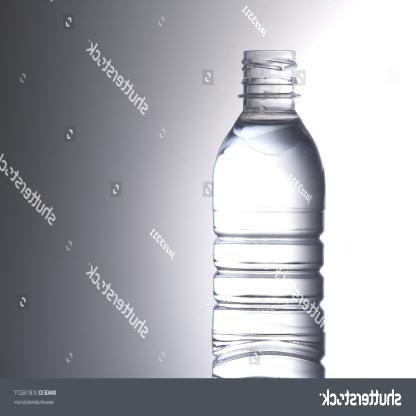bottle: (205, 46, 333, 381)
